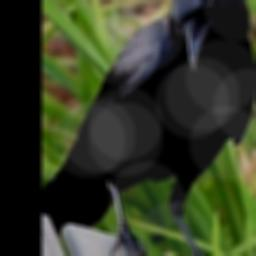Crow: (43, 0, 256, 256)
